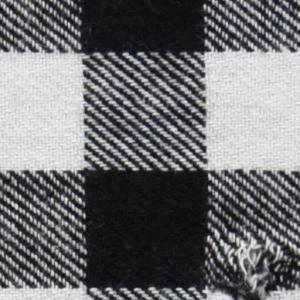Damage: (203, 236, 300, 300)
